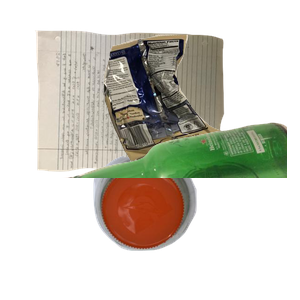glass: (60, 120, 300, 300)
paper: (32, 28, 249, 196)
plastic: (91, 152, 281, 300)
trash: (101, 32, 300, 195)
